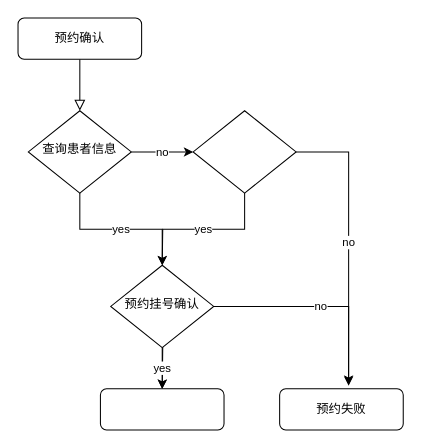
Image size: 421x448. Some labels were removed from this diagram. Each missing label, with the centre of its shape:
患者his建档: point 244,151
预约成功: point 161,409
